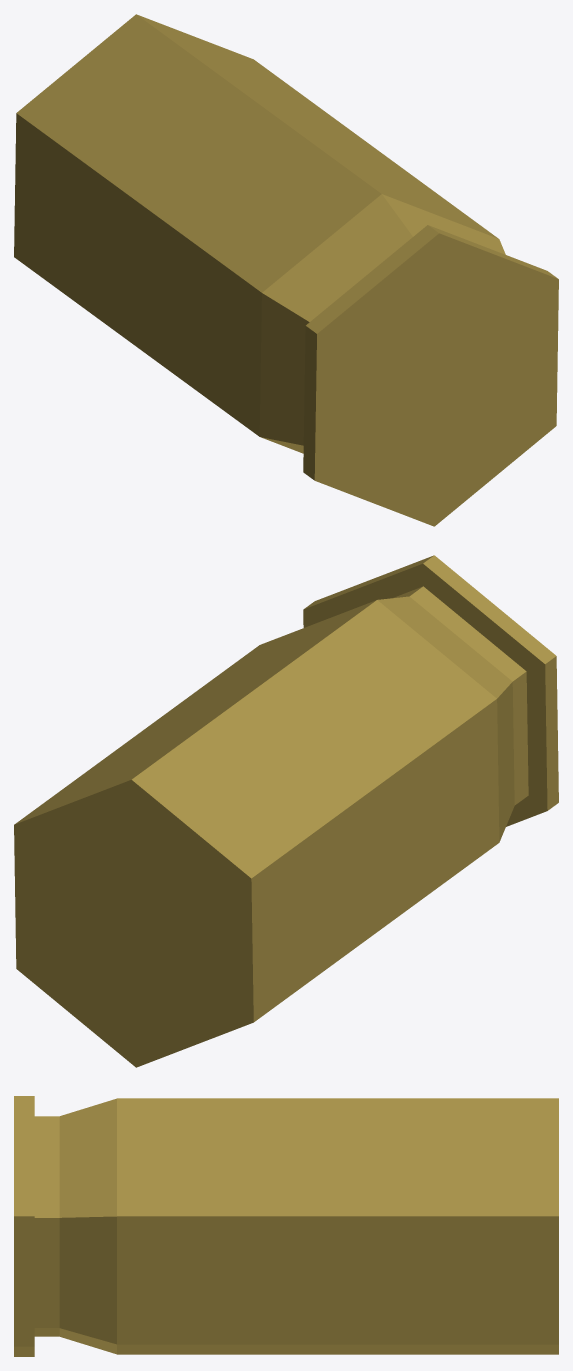
File: 45acp.fbx
3 renders of one model, top to bottom at view 1: azimuth 30°, elevation 25°; view 2: azimuth 150°, elevation 25°; view 3: azimuth 270°, elevation 25°, orthographic. The views are drawn at different scales.
Parts seen in each view (by area): view 1: 45acp.001; view 2: 45acp.001; view 3: 45acp.001.
Part boxes in pixels (x1,y1,x2,y2): 45acp.001: (14,14,558,526); 45acp.001: (14,555,558,1067); 45acp.001: (14,1096,558,1356).
Size of the model in its own units: 0.9907 by 1.13 by 2.13.
1 material, 1 textured.
